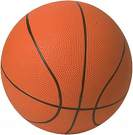basketball: (1, 1, 133, 134)
